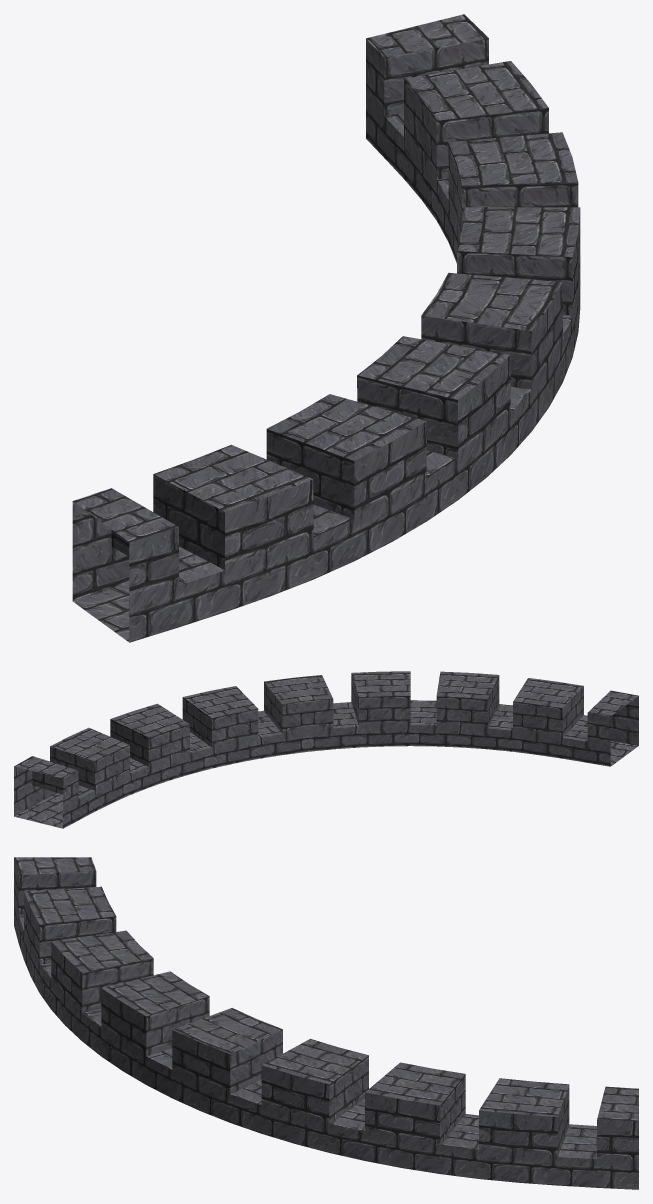
File: e_tower_guard.fbx
3 views of the same model, one above another, from view 1: azimuth 30°, elevation 25°; view 2: azimuth 150°, elevation 25°; view 3: azimuth 270°, elevation 25° (orthographic). The views are drawn at different scales.
Visible parts, largest first — view 1: polySurface2776; view 2: polySurface2776; view 3: polySurface2776.
Part boxes in pixels (x1,y1,x2,y2): polySurface2776: [72, 14, 580, 642]; polySurface2776: [14, 671, 638, 828]; polySurface2776: [14, 857, 638, 1189].
Size of the model in its own units: 9.86 by 1.2 by 9.86.
